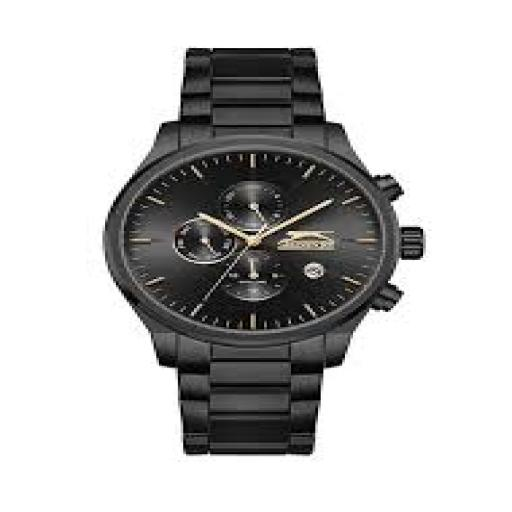KolSaati: (78, 28, 441, 482)
